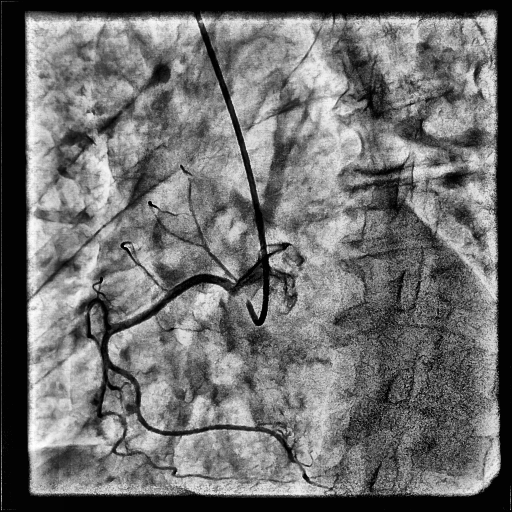pda: (257, 427, 331, 491)
rca: (101, 274, 257, 436)
